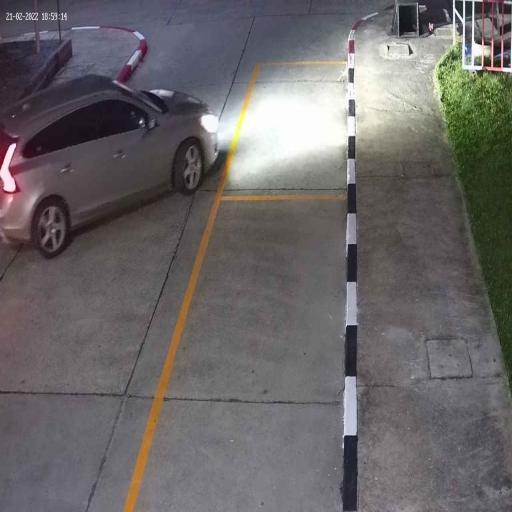car: (0, 73, 220, 260)
